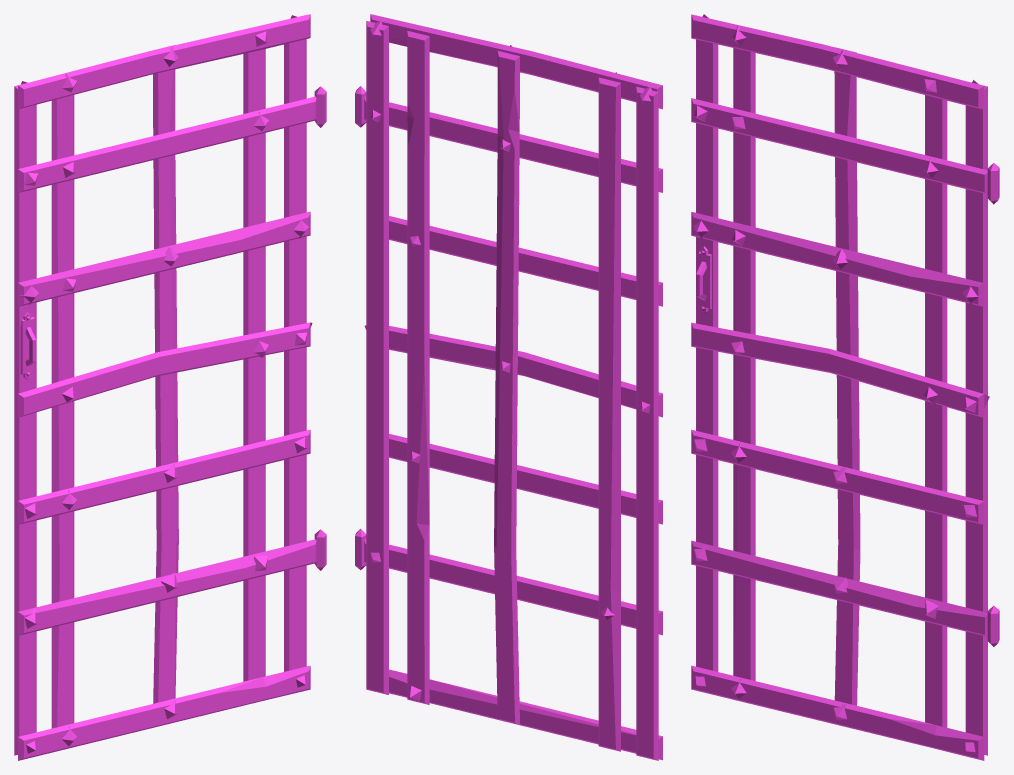
The model's file is SM_Door_Bars_B_Regular_Fantasy.fbx.
3 views of the same model, side by side, from view 1: azimuth 30°, elevation 25°; view 2: azimuth 150°, elevation 25°; view 3: azimuth 330°, elevation 25° (orthographic).
Parts seen in each view (by area): view 1: SM_Door_Bars_B_Regular_Fantasy; view 2: SM_Door_Bars_B_Regular_Fantasy; view 3: SM_Door_Bars_B_Regular_Fantasy.
Boxes of the visible parts, x1,y1,x2,y2 form: SM_Door_Bars_B_Regular_Fantasy: [14, 14, 326, 760]; SM_Door_Bars_B_Regular_Fantasy: [355, 14, 662, 760]; SM_Door_Bars_B_Regular_Fantasy: [691, 14, 999, 760].
Size of the model in its own units: 0.9681 by 2.04 by 0.1006.
